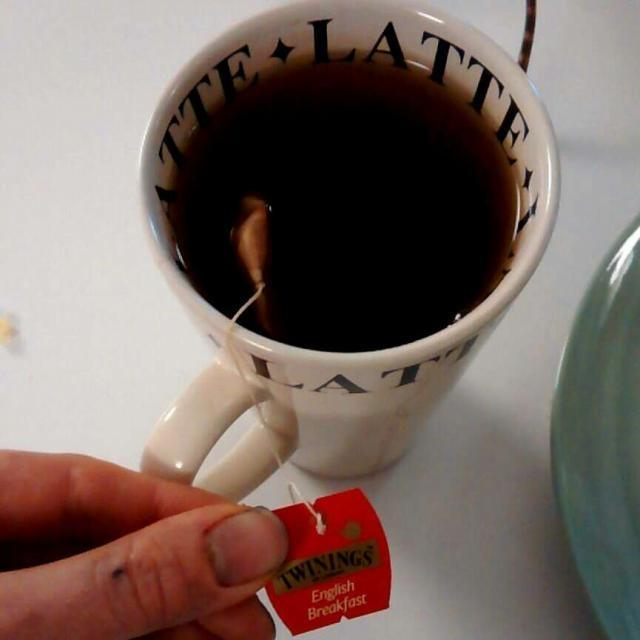tea: (162, 63, 518, 340)
